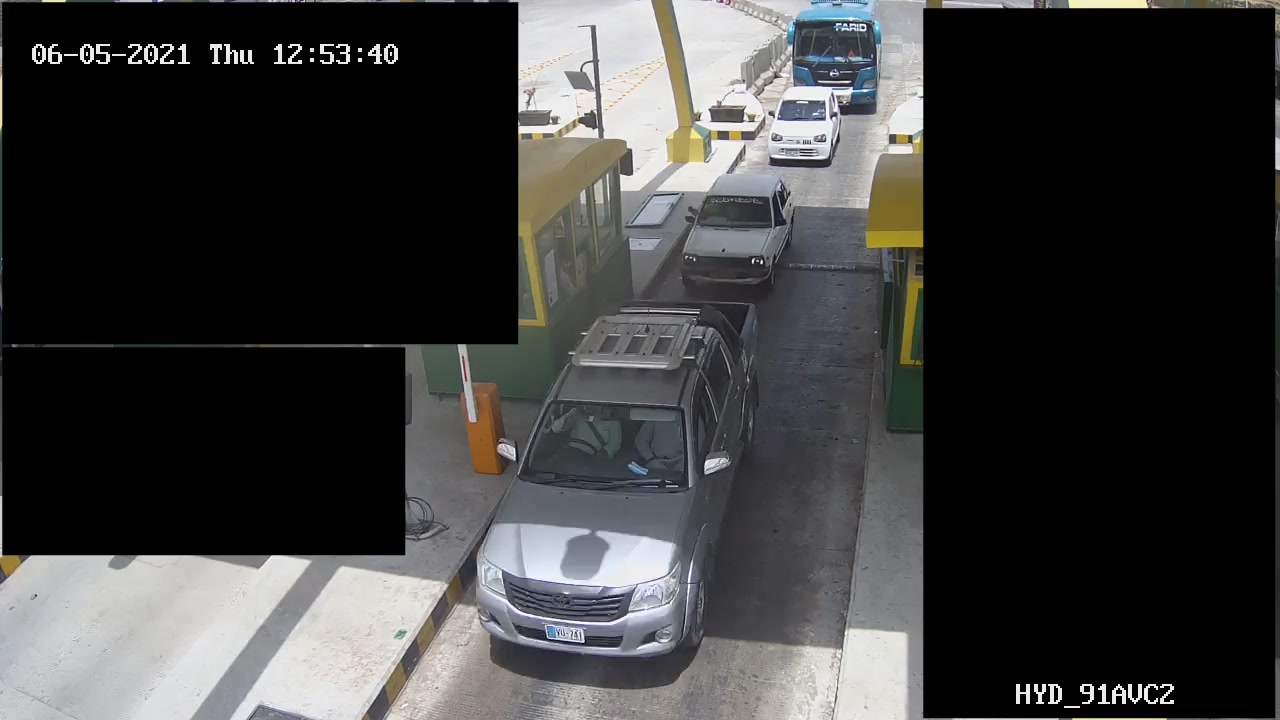F1: (672, 165, 796, 294)
